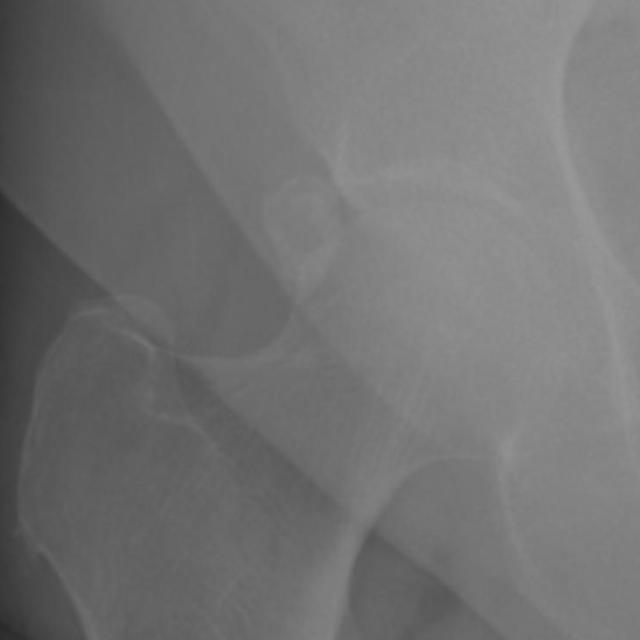Fitted_femural_head: (273, 193, 432, 273)
